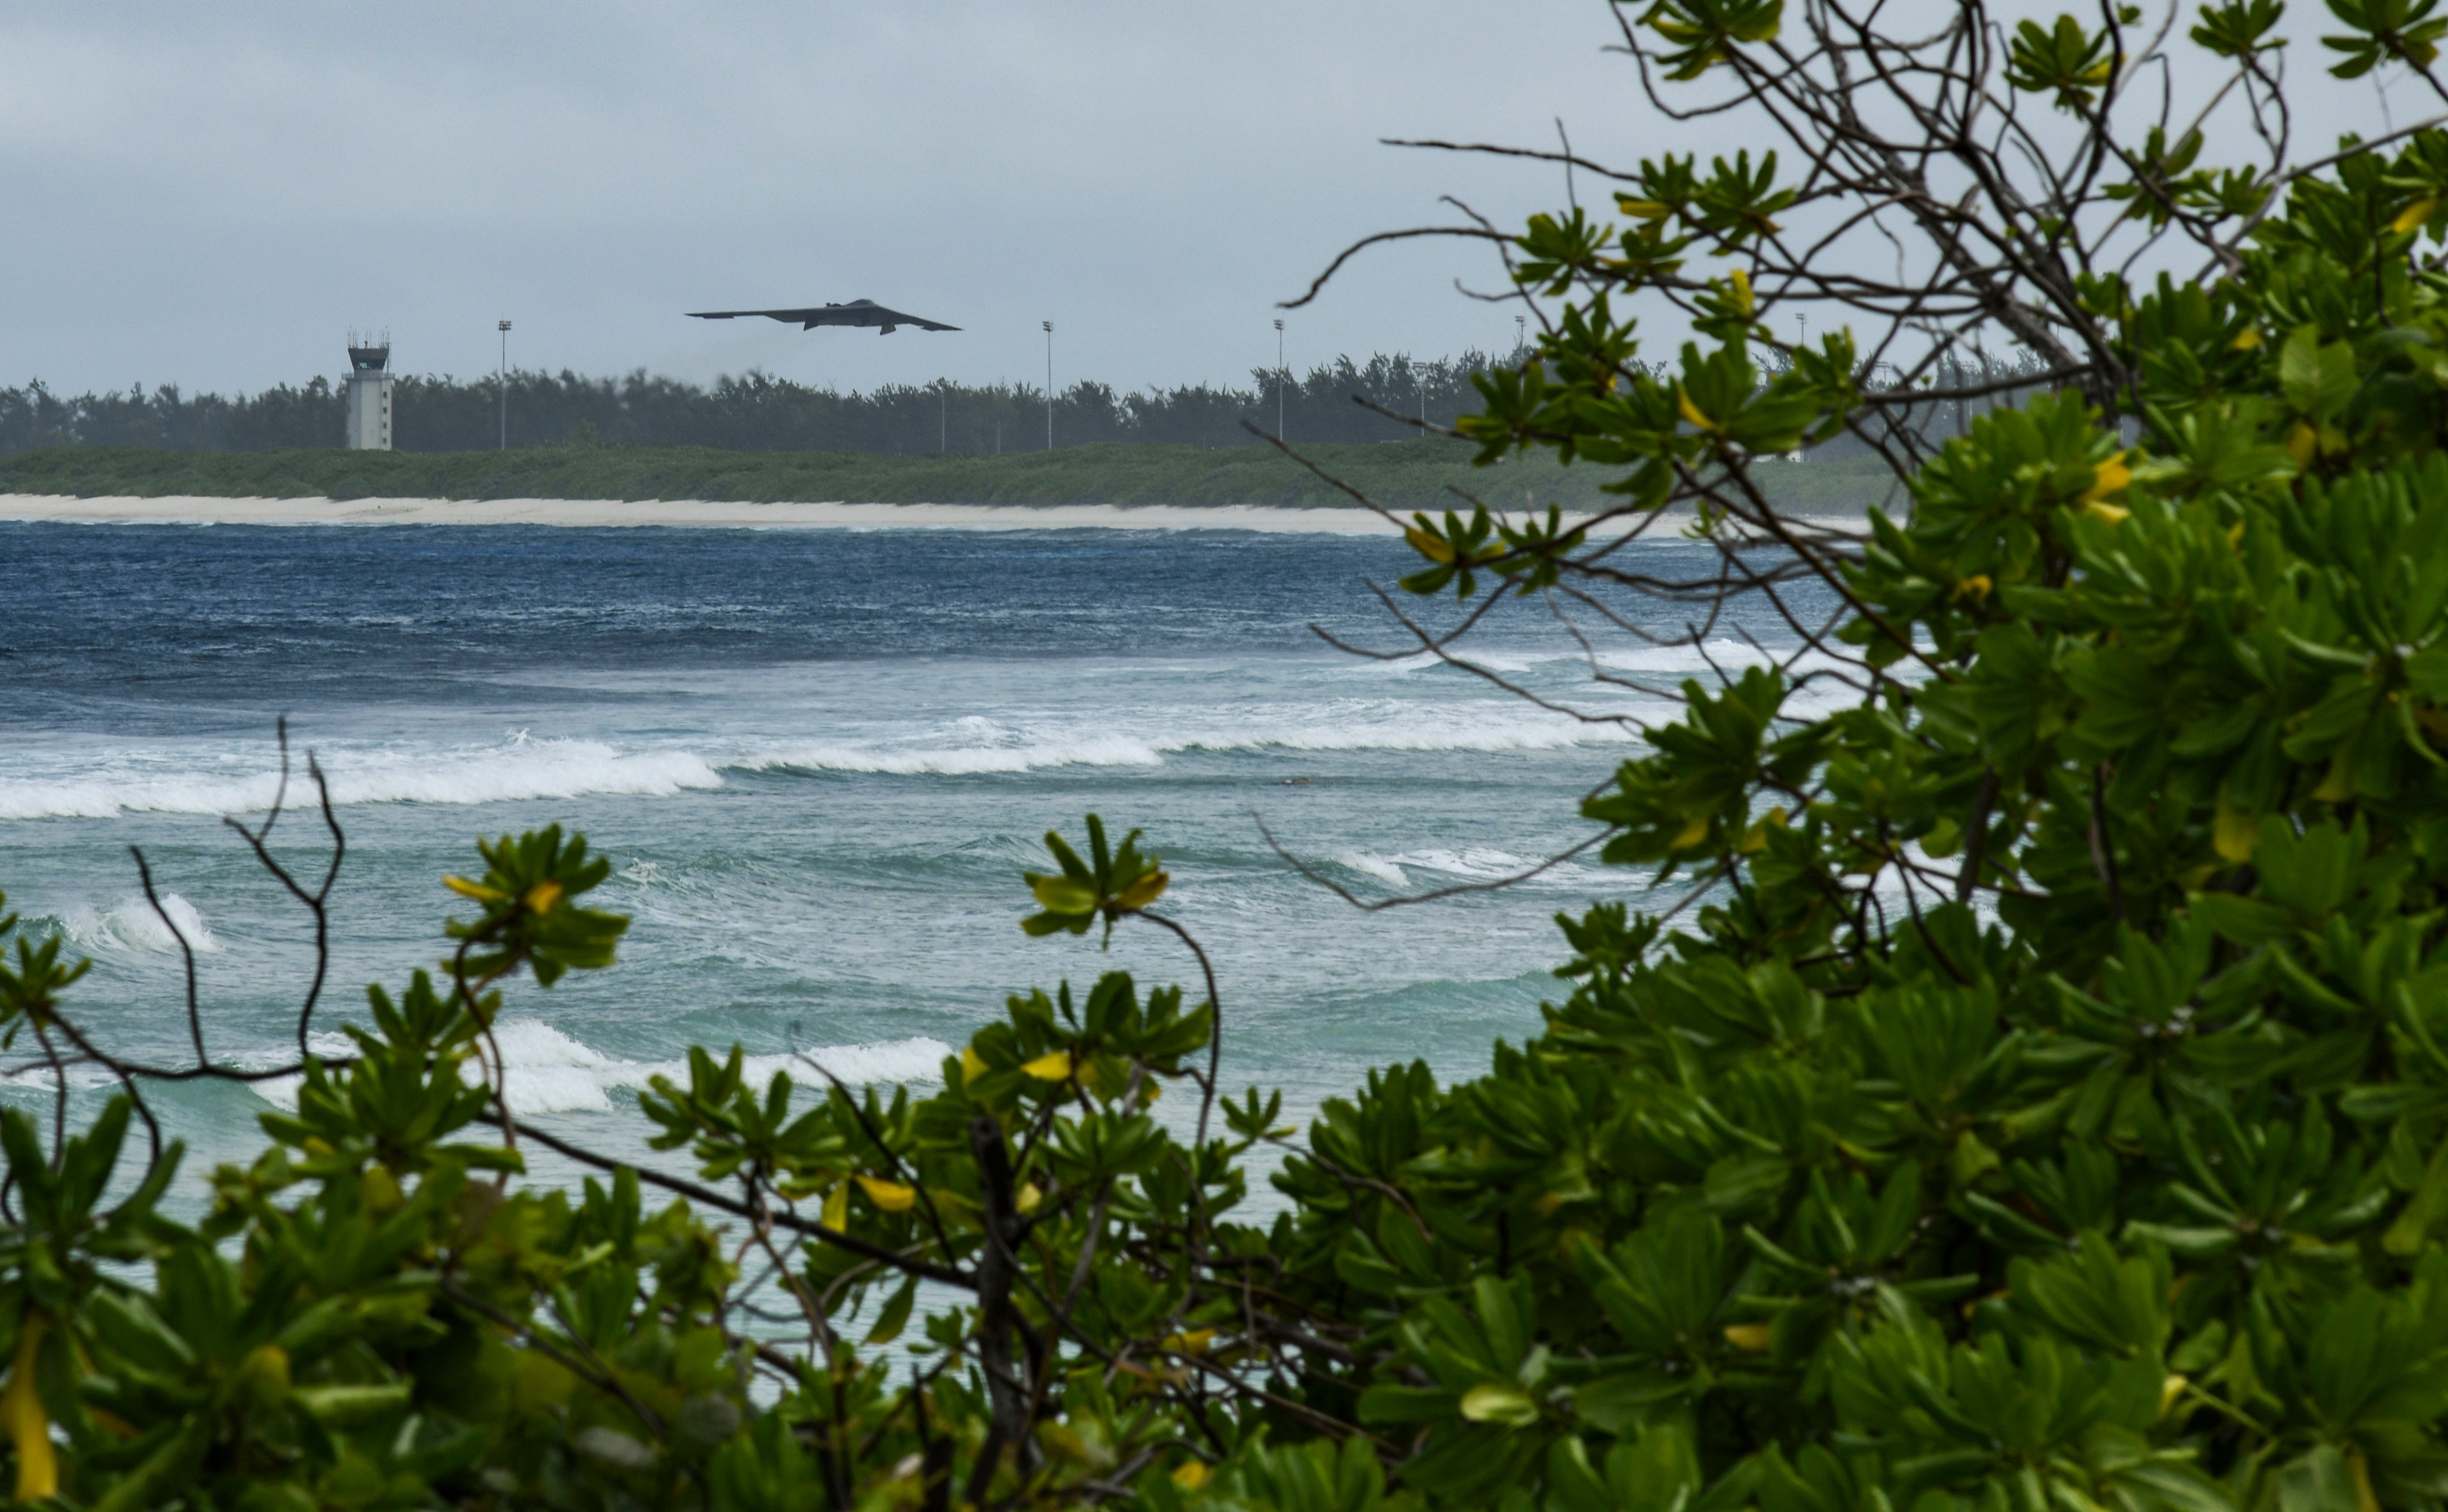B2: (682, 297, 967, 336)
